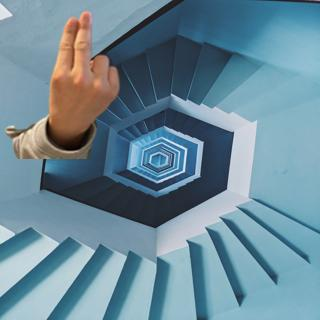DHAVE: (44, 7, 122, 131)
